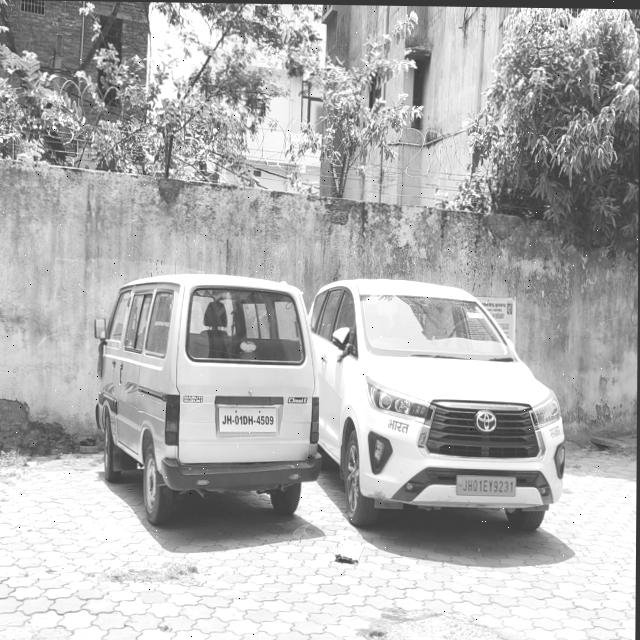car: (311, 272, 571, 539), (96, 258, 327, 541)
